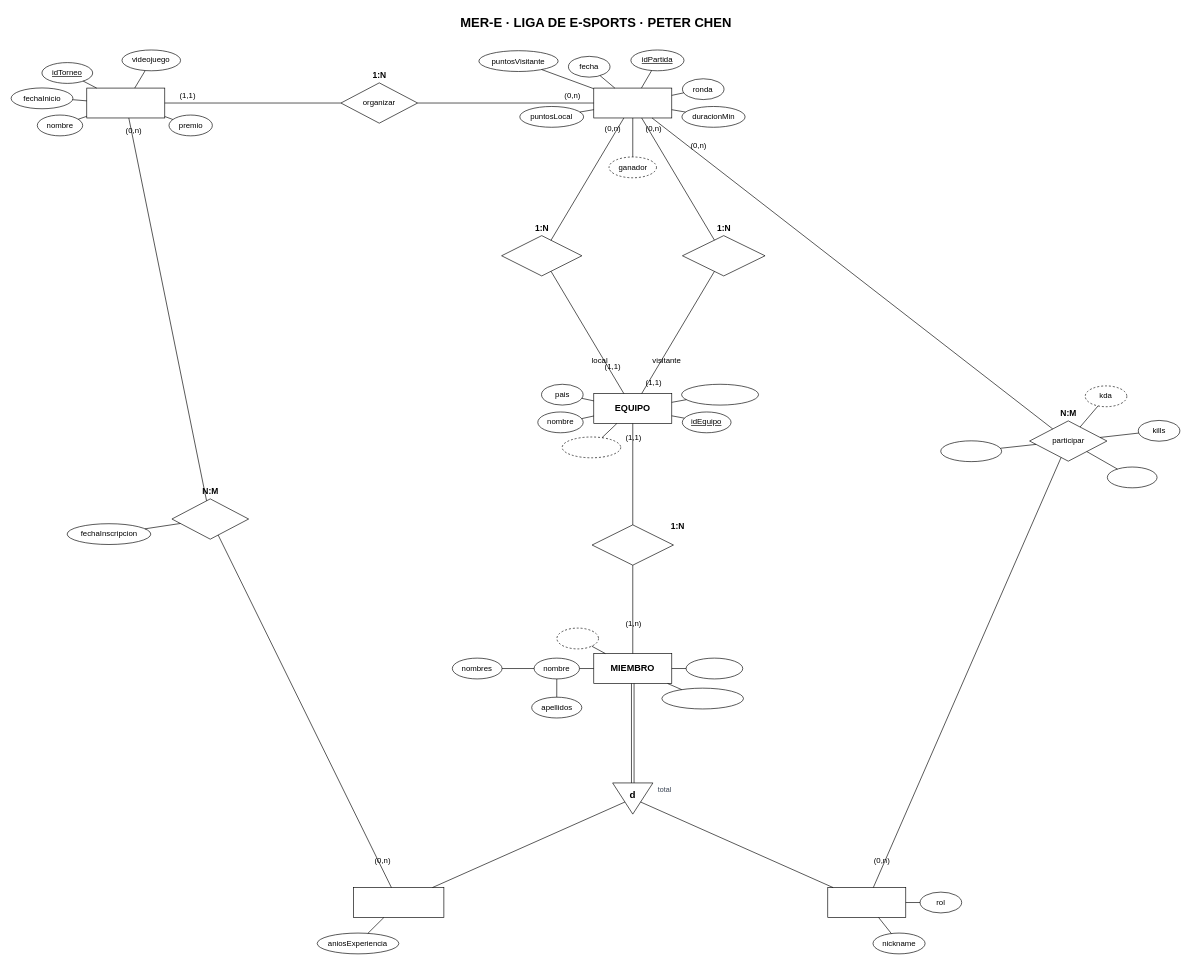
The diagram is 1192 pixels wide and 966 high, and some of its shapes have lost their labels. Each missing label, with the box of its shape:
antiguedad: (562, 436, 621, 458)
asistencias: (940, 440, 1002, 462)
edad: (556, 627, 599, 649)
ENTRENADOR: (353, 887, 444, 917)
fechaFundacion: (681, 384, 759, 405)
fechaNacimiento: (661, 688, 743, 709)
idMiembro: (685, 657, 743, 679)
inscribir: (171, 498, 249, 539)
JUGADOR: (827, 887, 906, 917)
jugarLocal: (501, 235, 582, 276)
jugarVisita: (682, 235, 765, 276)
muertes: (1107, 466, 1157, 488)
PARTIDA: (593, 87, 672, 118)
pertenecer: (591, 524, 673, 565)
TORNEO: (86, 87, 165, 118)
